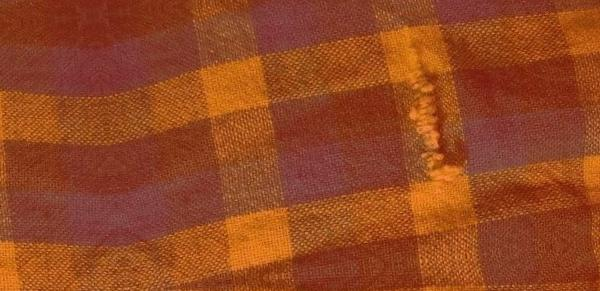knot: (406, 69, 467, 186)
